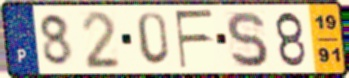0: (135, 11, 171, 68)
2: (80, 9, 123, 70)
8: (38, 11, 77, 68), (273, 10, 307, 68)
F: (173, 8, 216, 71)
S: (224, 9, 271, 70)
